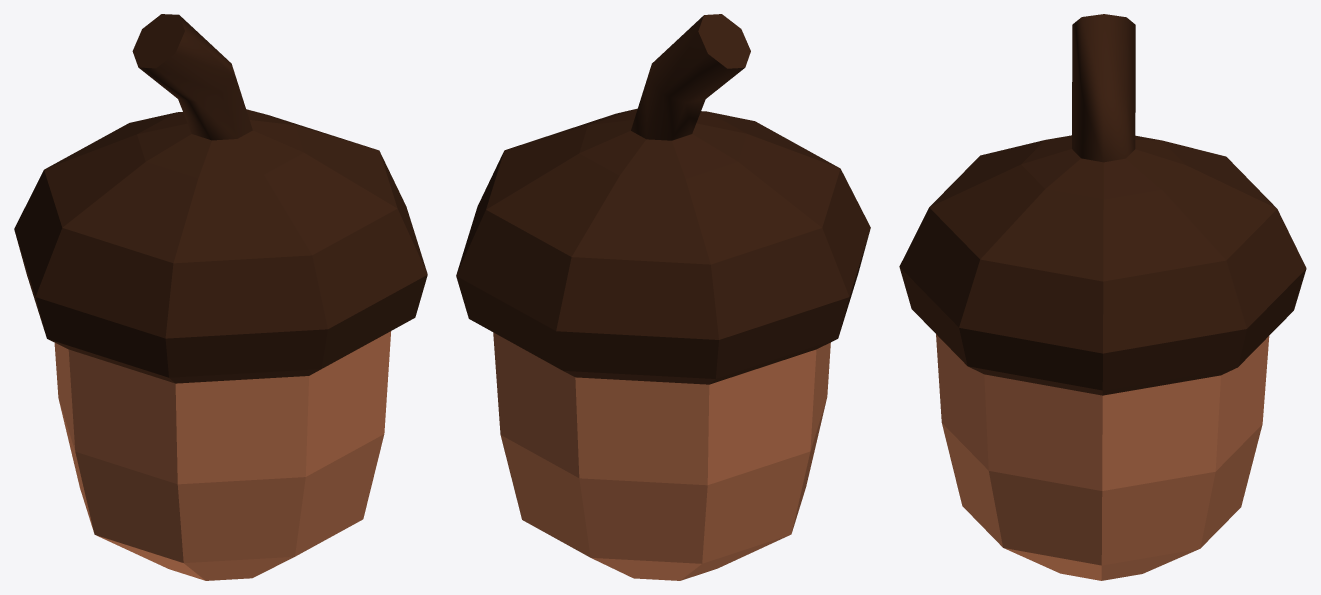
The model's file is acorn.fbx.
The picture shows the model from 3 angles, left to right: view 1: azimuth 30°, elevation 25°; view 2: azimuth 150°, elevation 25°; view 3: azimuth 270°, elevation 25°; orthographic projection. The views are drawn at different scales.
Parts seen in each view (by area): view 1: acorn; view 2: acorn; view 3: acorn.
Boxes of the visible parts, x1,y1,x2,y2 form: acorn: [14, 14, 427, 580]; acorn: [456, 14, 870, 580]; acorn: [899, 14, 1306, 580].
Size of the model in its own units: 36.18 by 51.32 by 36.18.
